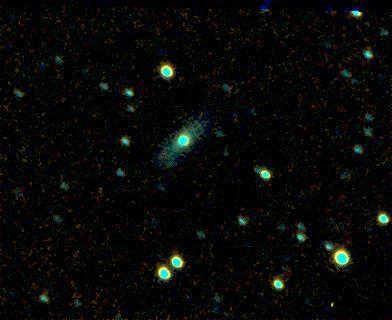star: (321, 282, 351, 312)
